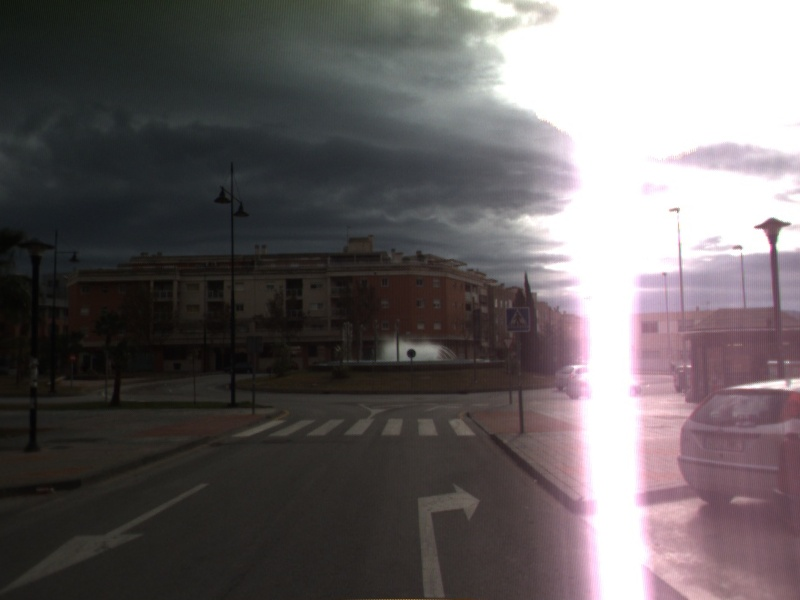RIGHT: (415, 481, 483, 599)
